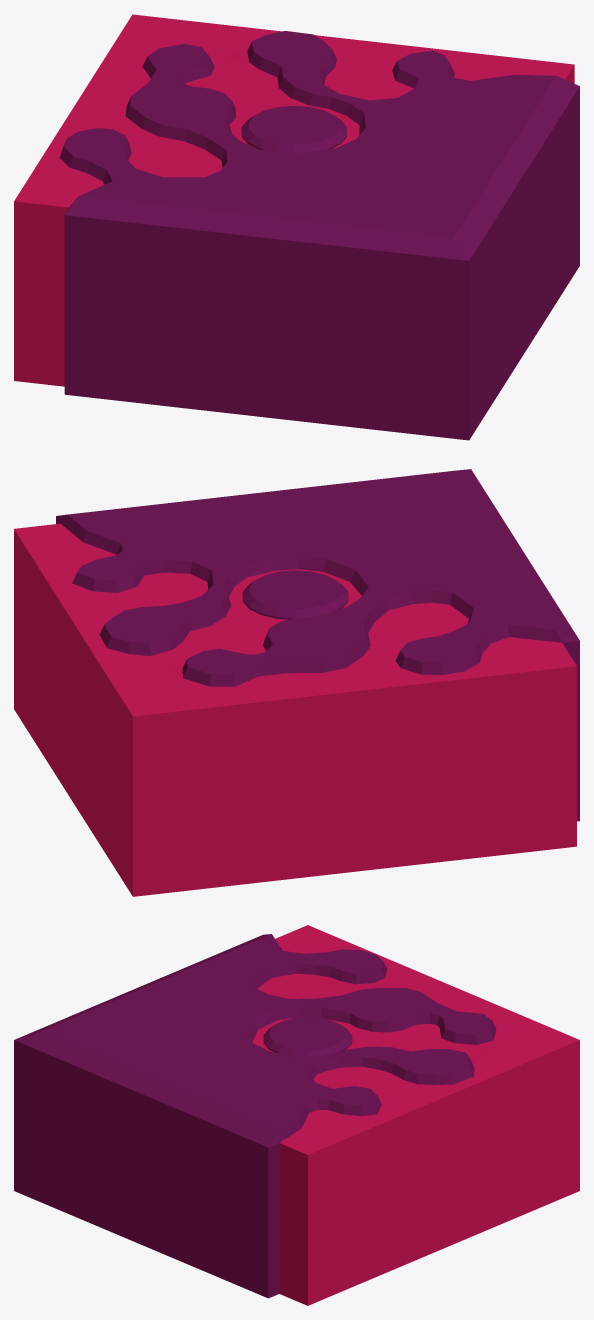
Rendered from Rhombus.fbx.
The picture shows the model from 3 angles, top to bottom: view 1: azimuth 30°, elevation 25°; view 2: azimuth 150°, elevation 25°; view 3: azimuth 270°, elevation 25°; orthographic projection. The views are drawn at different scales.
Parts seen in each view (by area): view 1: Rhombus; view 2: Rhombus; view 3: Rhombus.
Part boxes in pixels (<box>): Rhombus: <box>14,14,579,440</box>; Rhombus: <box>14,469,579,896</box>; Rhombus: <box>14,925,579,1305</box>.
Size of the model in its own units: 1.14 by 0.37 by 1.19.
